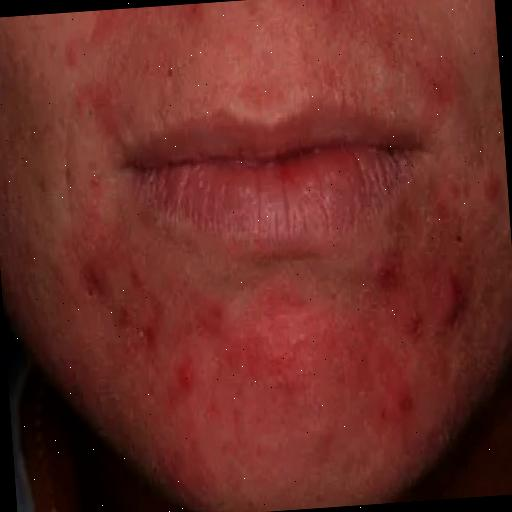Skin_Lesion: (250, 312, 326, 392), (426, 52, 468, 115), (437, 264, 474, 328), (378, 374, 416, 432), (78, 251, 113, 310), (364, 250, 404, 300), (157, 444, 200, 486), (194, 294, 228, 342), (313, 0, 364, 28), (127, 316, 159, 354), (404, 304, 430, 348), (312, 60, 340, 100), (174, 4, 210, 32), (98, 75, 119, 118), (173, 357, 195, 396), (481, 168, 504, 202), (61, 37, 79, 69), (80, 170, 102, 195), (128, 268, 147, 294), (156, 72, 170, 102)
